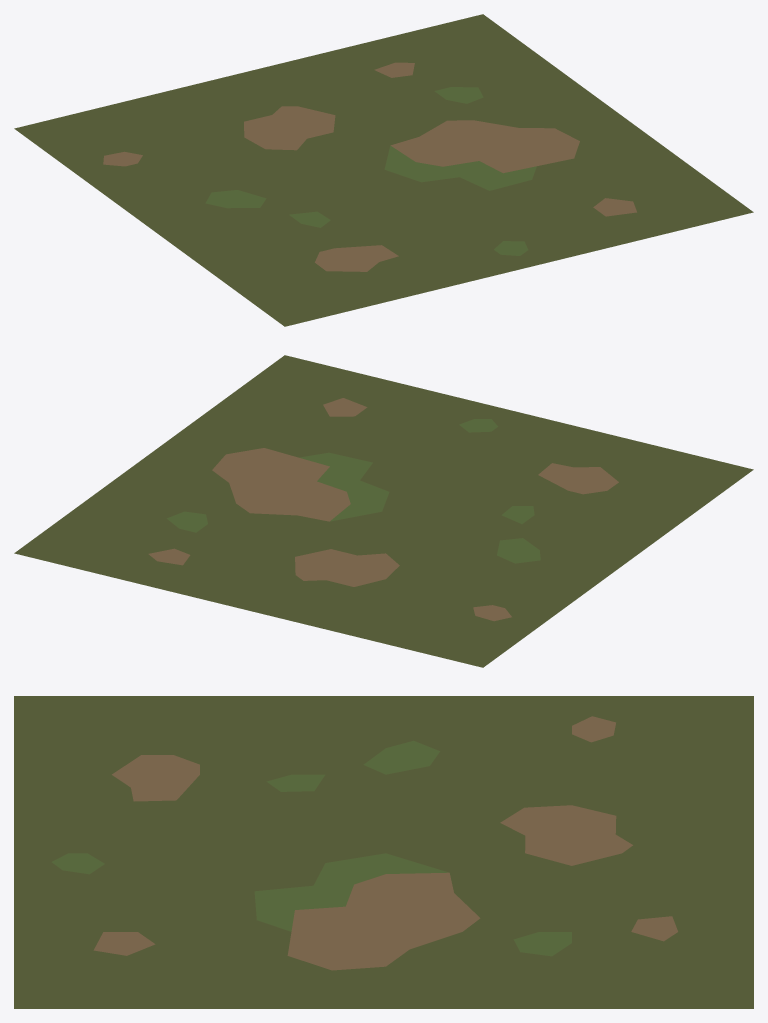
File: ground_stone.glb
3 views of the same model, one above another, from view 1: azimuth 30°, elevation 25°; view 2: azimuth 150°, elevation 25°; view 3: azimuth 270°, elevation 25° (orthographic). The views are drawn at different scales.
Visible parts, largest first — view 1: SM_Env_FloorTile_05; view 2: SM_Env_FloorTile_05; view 3: SM_Env_FloorTile_05.
Part boxes in pixels (box(x1,y1,x2,y2)): SM_Env_FloorTile_05: box(14, 14, 753, 326); SM_Env_FloorTile_05: box(14, 355, 753, 667); SM_Env_FloorTile_05: box(14, 696, 753, 1008).
Bounding box in the file's own units: 300 × 1.02e-13 × 300.
Materials: 1 (1 with a texture image).
